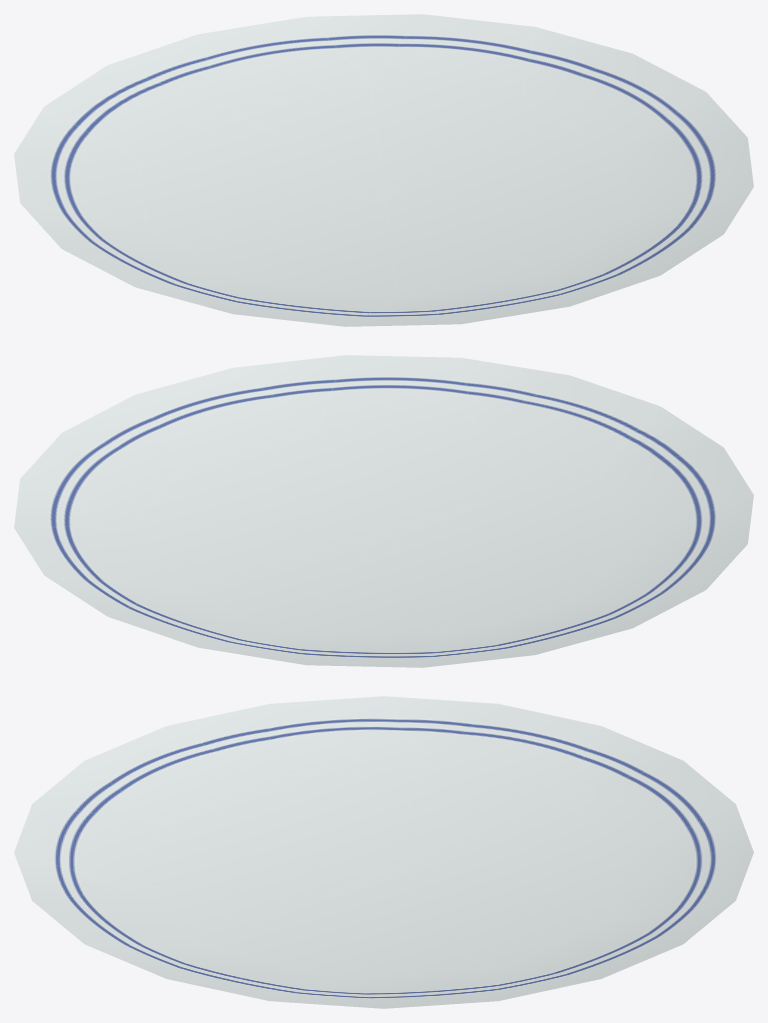
The model's file is Sun_0464_Plate_Small.fbx.
3 views of the same model, one above another, from view 1: azimuth 30°, elevation 25°; view 2: azimuth 150°, elevation 25°; view 3: azimuth 270°, elevation 25° (orthographic).
Visible parts, largest first — view 1: Sun_0464_Plate_Small; view 2: Sun_0464_Plate_Small; view 3: Sun_0464_Plate_Small.
Part boxes in pixels (box(x1,y1,x2,y2)): Sun_0464_Plate_Small: box(14, 14, 753, 326); Sun_0464_Plate_Small: box(14, 355, 753, 667); Sun_0464_Plate_Small: box(14, 696, 753, 1008).
Size of the model in its own units: 29.45 by 1.23 by 29.45.
